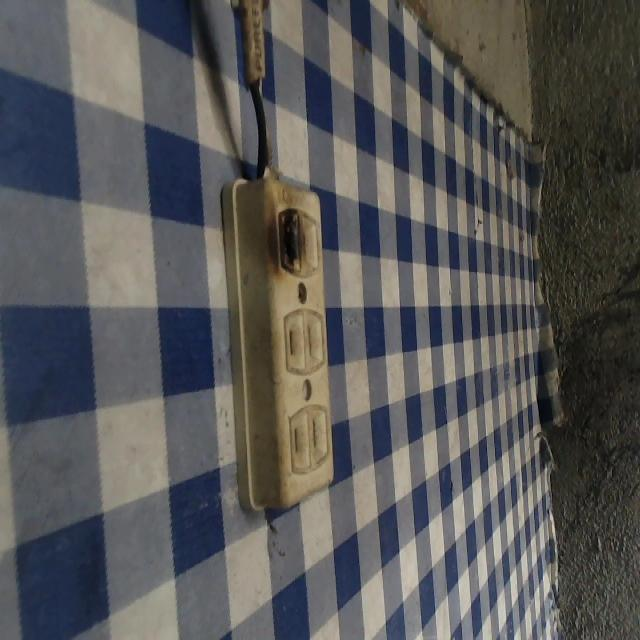-: (265, 188, 304, 291)
